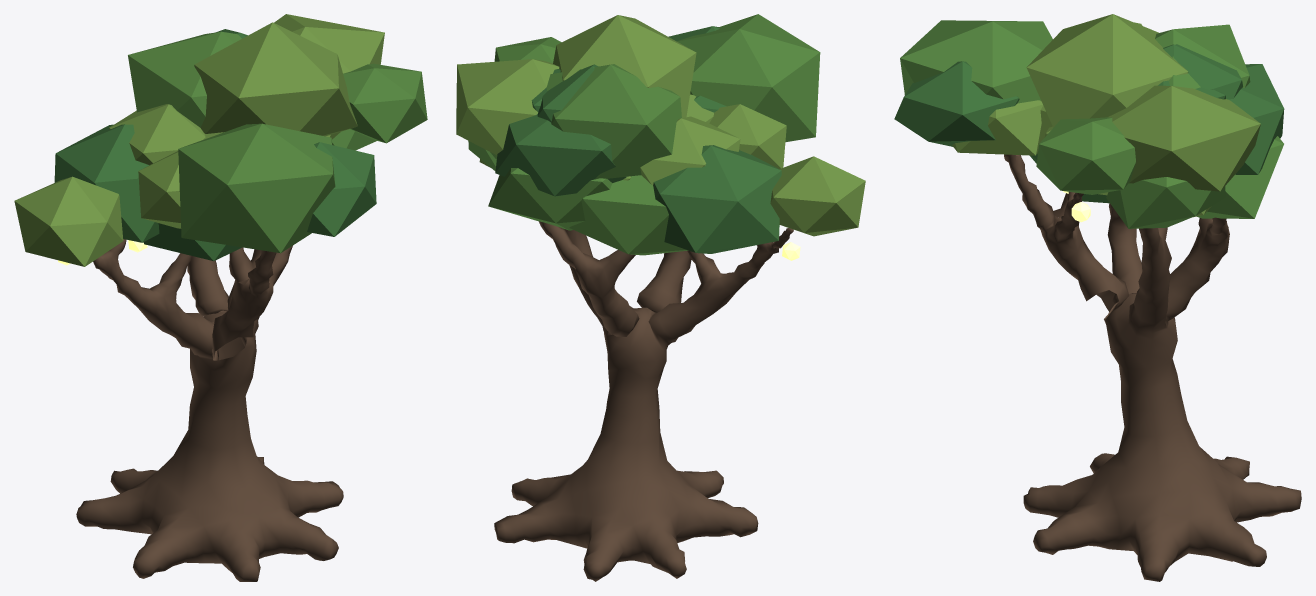
Rendered from prop_yggdrasil_tree.glb.
3 views of the same model, side by side, from view 1: azimuth 30°, elevation 25°; view 2: azimuth 150°, elevation 25°; view 3: azimuth 270°, elevation 25° (orthographic). The views are drawn at different scales.
Visible parts, largest first — view 1: ygg_bark, ygg_leaves2, ygg_leaves1, ygg_leaves0; view 2: ygg_bark, ygg_leaves1, ygg_leaves2, ygg_leaves0; view 3: ygg_bark, ygg_leaves2, ygg_leaves1, ygg_leaves0.
Boxes of the visible parts, left/top/right/bottom form: ygg_bark: left=76, top=239, right=343, bottom=581; ygg_leaves2: left=14, top=14, right=384, bottom=266; ygg_leaves1: left=128, top=31, right=427, bottom=253; ygg_leaves0: left=54, top=29, right=376, bottom=261; ygg_bark: left=494, top=221, right=793, bottom=581; ygg_leaves1: left=468, top=14, right=820, bottom=255; ygg_leaves2: left=456, top=15, right=865, bottom=236; ygg_leaves0: left=495, top=26, right=781, bottom=253; ygg_bark: left=1004, top=154, right=1301, bottom=581; ygg_leaves2: left=952, top=14, right=1260, bottom=217; ygg_leaves1: left=900, top=20, right=1283, bottom=228; ygg_leaves0: left=894, top=44, right=1284, bottom=203.
Size of the model in its own units: 44.89 by 57.39 by 39.64.
